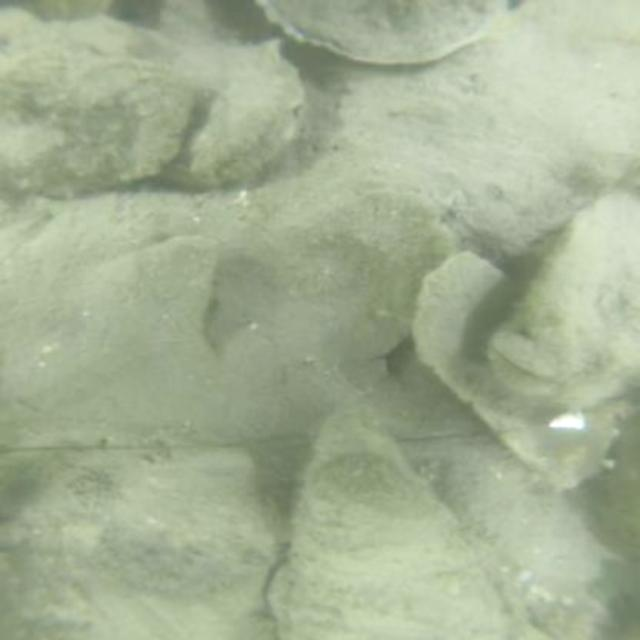Oyster-Closed: (0, 446, 286, 640), (414, 250, 636, 490), (276, 435, 519, 635), (0, 14, 191, 194), (495, 185, 636, 406), (438, 441, 601, 608), (190, 45, 304, 185), (268, 0, 501, 60)
